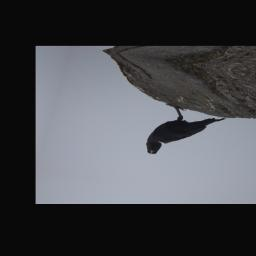Crow: (142, 103, 228, 164)
